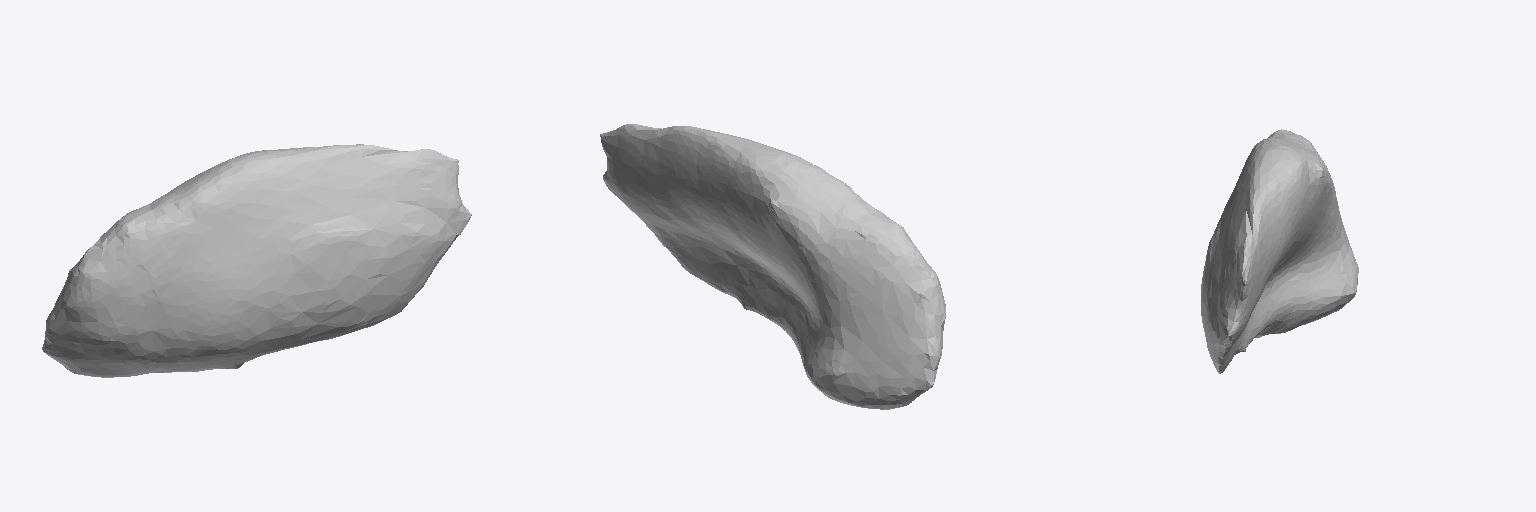
Rendered from L-Putamen.obj.
3 views of the same model, side by side, from view 1: azimuth 30°, elevation 25°; view 2: azimuth 150°, elevation 25°; view 3: azimuth 270°, elevation 25° (orthographic).
Parts seen in each view (by area): view 1: L-putamen_putamen; view 2: L-putamen_putamen; view 3: L-putamen_putamen.
Part boxes in pixels (x1,y1,x2,y2): L-putamen_putamen: (42, 144, 471, 377); L-putamen_putamen: (600, 124, 945, 409); L-putamen_putamen: (1201, 129, 1358, 373).
Size of the model in its own units: 64.84 by 33.27 by 23.18.